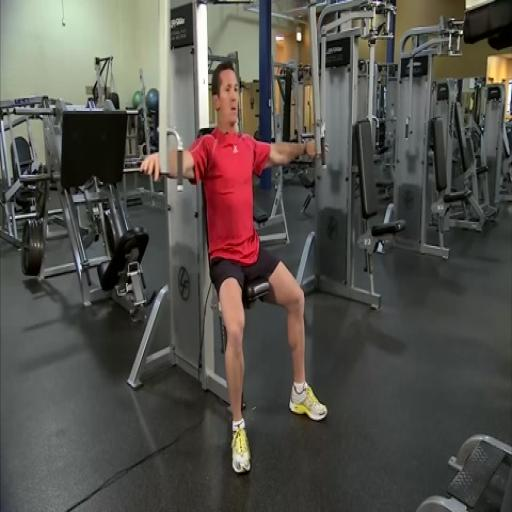exercise: (138, 58, 332, 476)
